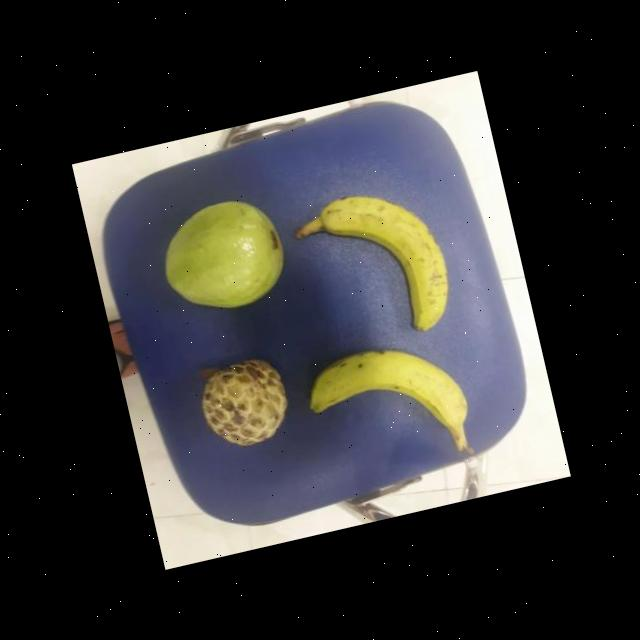Sakya fruit: (191, 352, 296, 457)
banana: (311, 175, 463, 354), (296, 328, 481, 462)
guava: (148, 188, 297, 328)
